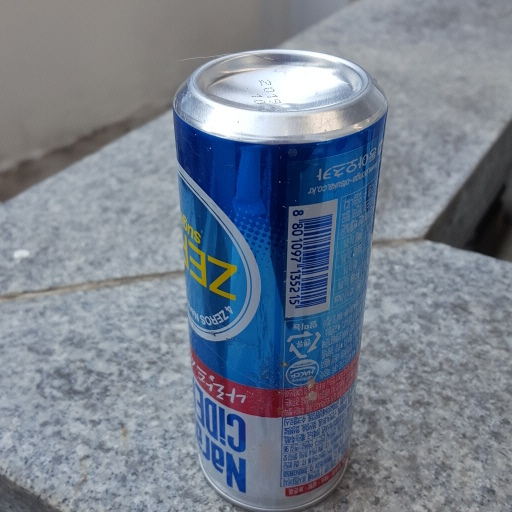Metal_0: (169, 48, 390, 510)
